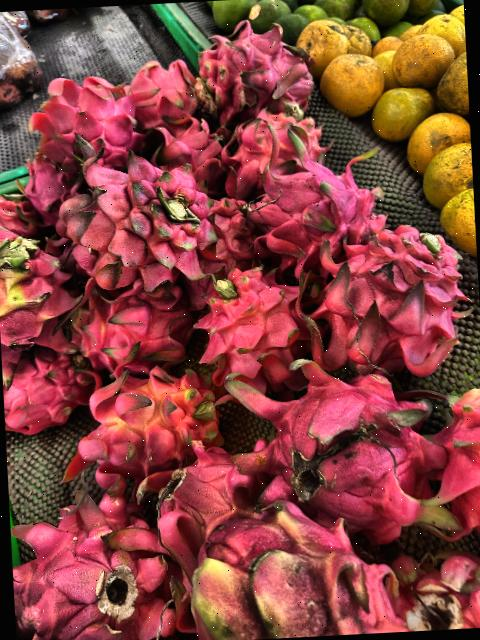buah-naga-belum-matang: (188, 502, 407, 640), (55, 368, 226, 478), (0, 220, 84, 345), (150, 117, 240, 195)
buah-naga-matang: (227, 351, 447, 549), (296, 226, 474, 387), (55, 152, 221, 304), (9, 498, 174, 640), (242, 118, 386, 262), (200, 265, 326, 399), (132, 446, 261, 561), (22, 67, 159, 172), (56, 277, 198, 375), (194, 15, 322, 114), (218, 94, 340, 190), (425, 377, 480, 545), (122, 47, 214, 130), (1, 340, 83, 433), (204, 190, 257, 276)
